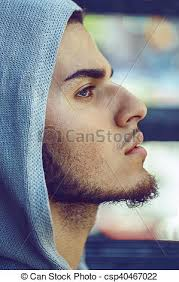middle_eastern_male: (42, 11, 160, 212)
